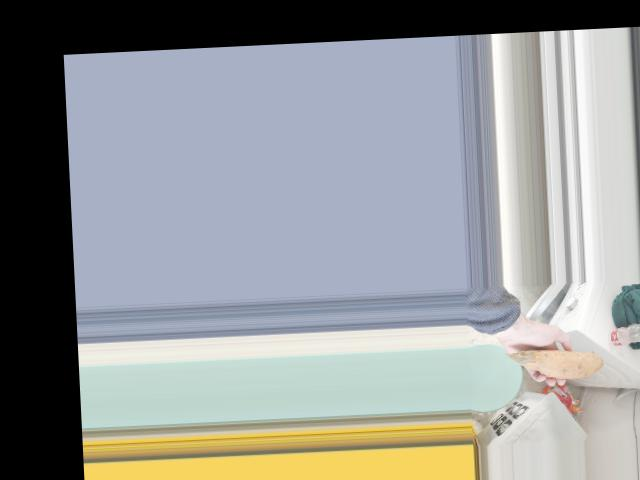sweet_potato: (516, 344, 594, 381)
